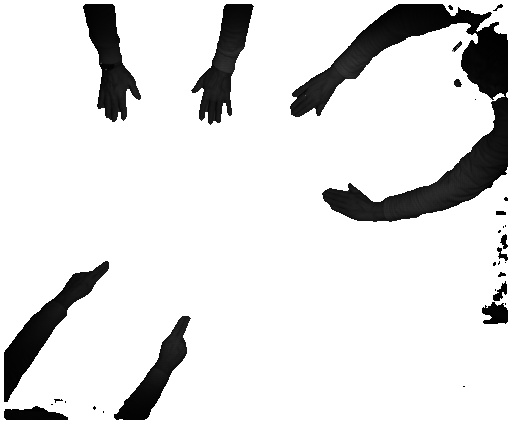hand: (96, 67, 143, 127), (184, 73, 235, 127), (288, 71, 340, 119), (61, 256, 111, 304), (320, 181, 375, 223), (157, 312, 191, 369)
